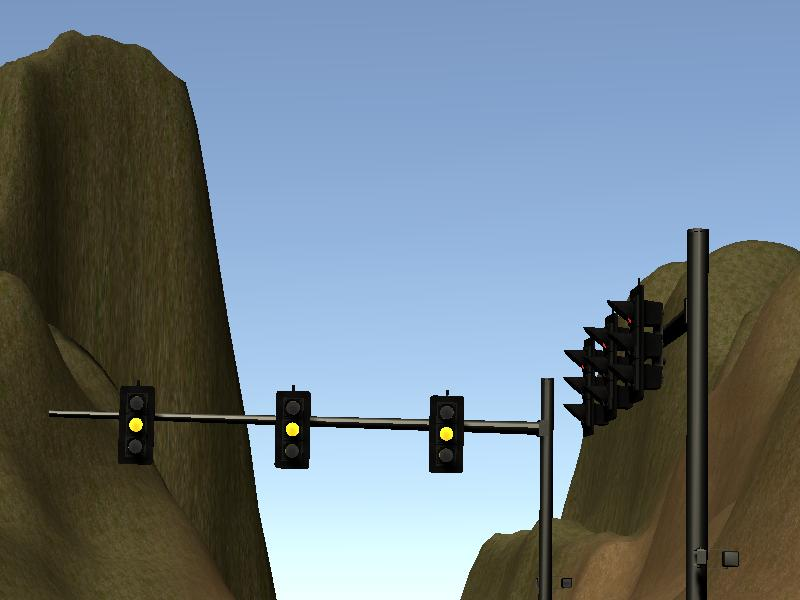Yellow: (118, 385, 154, 463), (274, 390, 310, 468), (429, 393, 463, 472)
